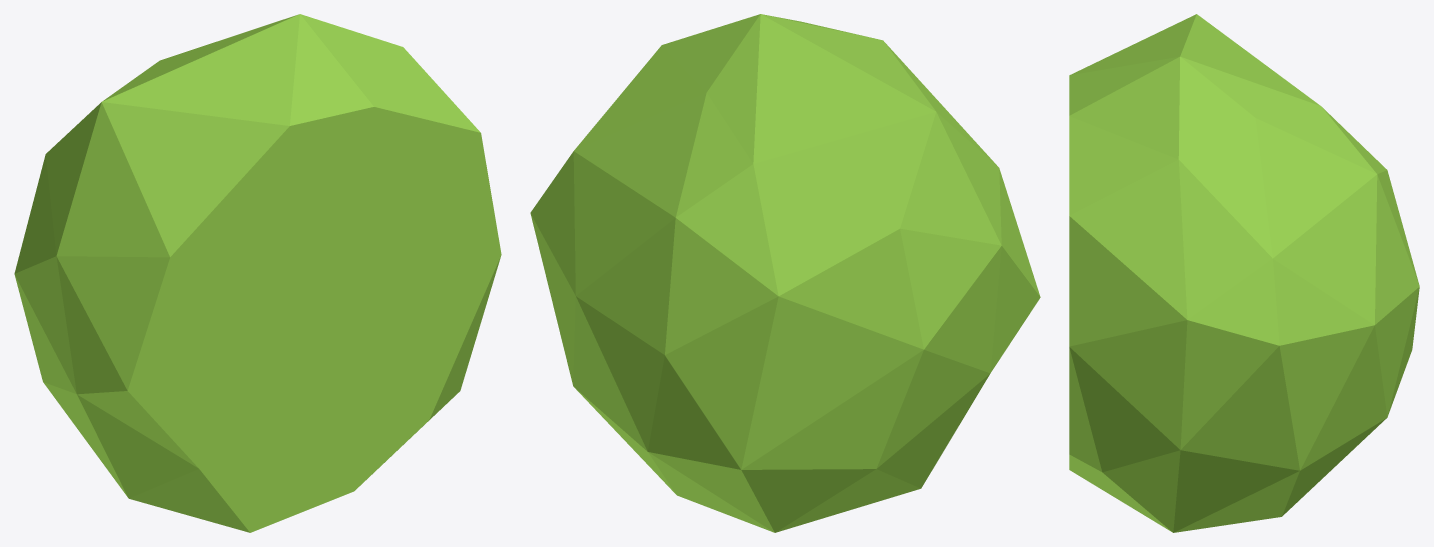
The model's file is Bush_2.fbx.
3 views of the same model, side by side, from view 1: azimuth 30°, elevation 25°; view 2: azimuth 150°, elevation 25°; view 3: azimuth 270°, elevation 25° (orthographic). The views are drawn at different scales.
Visible parts, largest first — view 1: Bush_2; view 2: Bush_2; view 3: Bush_2.
Boxes of the visible parts, x1,y1,x2,y2 form: Bush_2: (14,14,501,532); Bush_2: (530,14,1040,532); Bush_2: (1069,14,1419,532).
Bounding box in the file's own units: 229 × 239 × 168.
